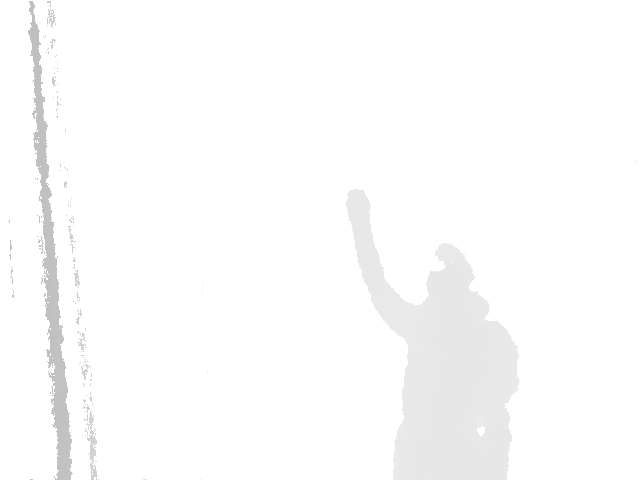hand: (346, 188, 372, 227)
head: (423, 242, 490, 320)
person: (344, 186, 522, 480)
